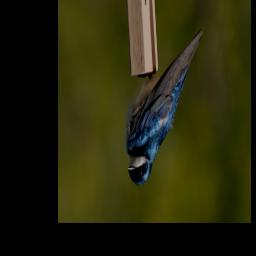Swallow: (124, 26, 203, 190)
